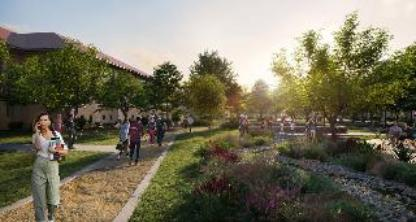person: (27, 110, 67, 222)
